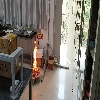fire: (32, 40, 38, 75)
